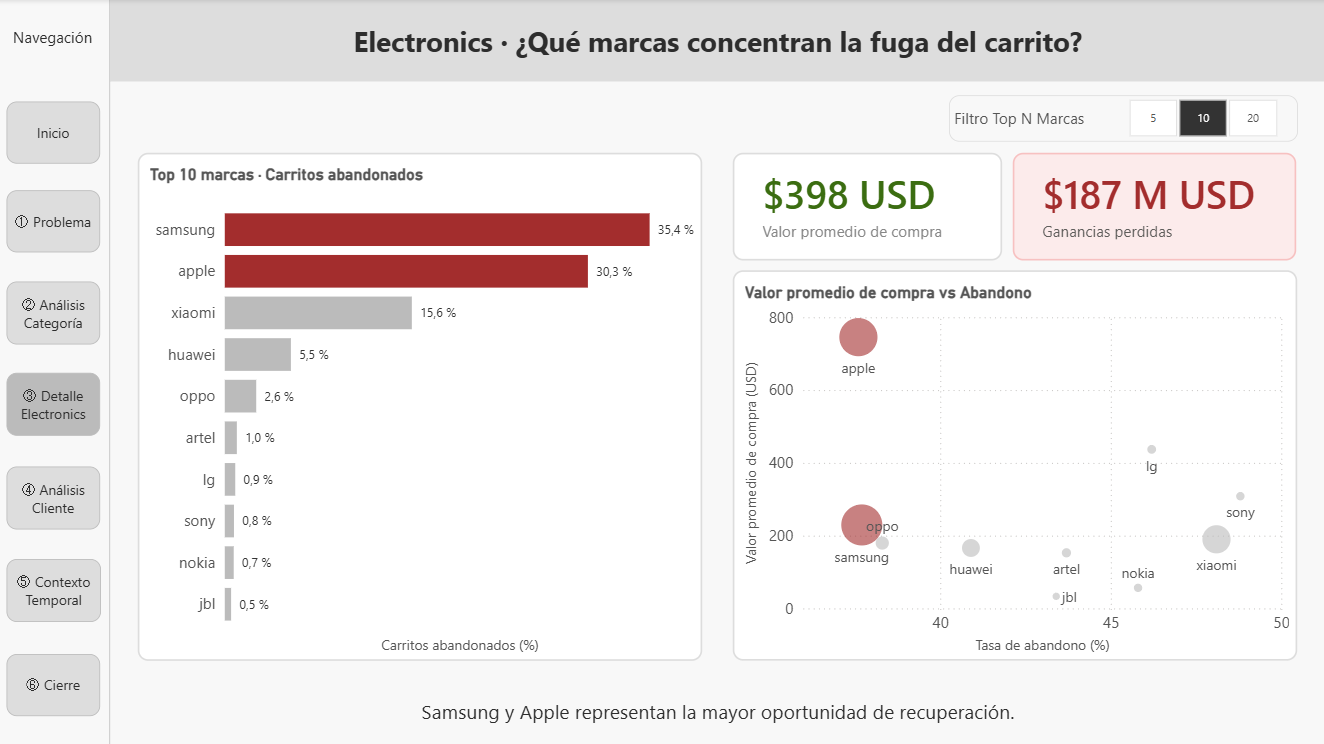

Layout of this report page (visuals, bound fields, positions):
{"tool":"powerbi","page":{"name":"Electronics","canvas":[1280,720],"ordinal":3},"visuals":[{"type":"cardVisual","fields":{"Data":["agg_revenue_en_juego.03_Ticket_electronics"]},"box":[708,148.9,260,103.8],"z":0},{"type":"cardVisual","fields":{"Data":["agg_revenue_en_juego.Revenue Electronics"]},"box":[979,148.9,273.4,103.8],"z":1000},{"type":"clusteredBarChart","title":"Top 10 marcas · Carritos abandonados","fields":{"Category":["agg_marca_electronics.brand"],"Y":["agg_marca_electronics.01_Pct Abandonados Filtrado"]},"box":[133.9,148.4,545,490],"z":2000},{"type":"shape","box":[107.4,0,1172.7,79.6],"z":3000},{"type":"shape","box":[107.4,654.3,1173.1,65.9],"z":4000},{"type":"textbox","box":[917.4,99.7,166.5,30.2],"z":5000},{"type":"shape","box":[917.4,92.4,336.6,44.6],"z":6000},{"type":"slicer","title":"Filtro Top N Categorías","fields":{"Values":["Top N Marcas.Top N Marcas"]},"box":[1068.9,94.1,184.6,41],"z":7000},{"type":"textbox","box":[1050.8,313.7,197.9,36.2],"z":8000},{"type":"shape","box":[0,0,213.6,720.2],"z":9000},{"type":"textbox","box":[3.7,22,96.4,36.6],"z":10000},{"type":"scatterChart","title":"Valor promedio de compra vs Abandono","fields":{"X":["agg_marca_electronics.04_Abandono Filtrado Scatter"],"Series":["agg_marca_electronics.brand"],"Size":["Sum(agg_marca_electronics.abandonados)"],"Y":["agg_marca_electronics.03_Ticket Filtrado"]},"box":[708,261.2,544.4,377.2],"z":11000},{"type":"actionButton","box":[7.3,98.9,90.3,59.8],"z":12000},{"type":"actionButton","box":[7.3,272.2,90.3,61],"z":13000},{"type":"actionButton","box":[7.3,540.8,91.6,61],"z":14000},{"type":"actionButton","box":[7.3,451.7,90.3,61],"z":15000},{"type":"actionButton","box":[7.3,632.3,90.3,59.8],"z":16000},{"type":"actionButton","box":[7.3,361.3,90.3,61],"z":17000},{"type":"actionButton","box":[7.3,184.3,90.3,59.8],"z":18000}]}

Visuals, with their boxes in screenshot pixels (x1, y1, x2, y2), scaled from the page's 1280x720 canvas onto the 1324x744 screenshot:
cardVisual - agg_revenue_en_juego.03_Ticket_electronics: region(732, 154, 1001, 261)
cardVisual - agg_revenue_en_juego.Revenue Electronics: region(1013, 154, 1295, 261)
"Top 10 marcas · Carritos abandonados" clusteredBarChart: region(139, 153, 702, 660)
shape: region(111, 0, 1323, 82)
shape: region(111, 676, 1323, 743)
textbox: region(949, 103, 1121, 134)
shape: region(949, 95, 1297, 142)
"Filtro Top N Categorías" slicer: region(1106, 97, 1297, 140)
textbox: region(1087, 324, 1292, 362)
shape: region(0, 0, 221, 743)
textbox: region(4, 23, 104, 61)
"Valor promedio de compra vs Abandono" scatterChart: region(732, 270, 1295, 660)
actionButton: region(8, 102, 101, 164)
actionButton: region(8, 281, 101, 344)
actionButton: region(8, 559, 102, 622)
actionButton: region(8, 467, 101, 530)
actionButton: region(8, 653, 101, 715)
actionButton: region(8, 373, 101, 436)
actionButton: region(8, 190, 101, 252)
